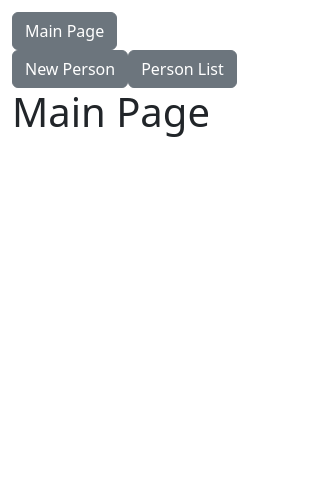
it: Prson Testler › If entered failing name, name error shown and error text correct?
The width and height of the screenshot is (332, 497).
Click the button with test id "newPersonBtn" at x=70, y=69, box [12, 50, 128, 88]
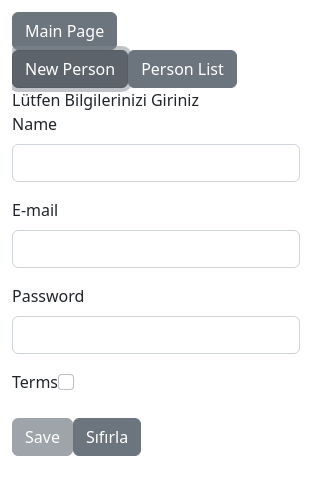
Type "Al" into the field with test id "newPersonSaveName" at x=156, y=163, box [12, 144, 300, 182]
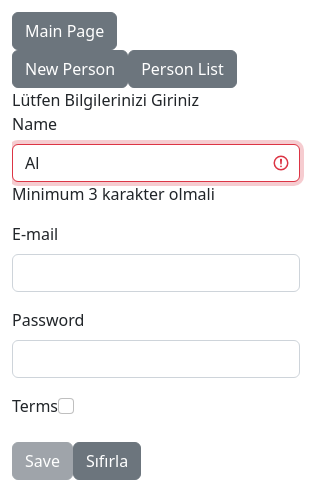
Result: the number of elements with test id "Error" is 1 at [12, 183, 215, 205]
Result: the text with test id "Error" reads "Minimum 3 karakter olmali" at [12, 183, 215, 205]
